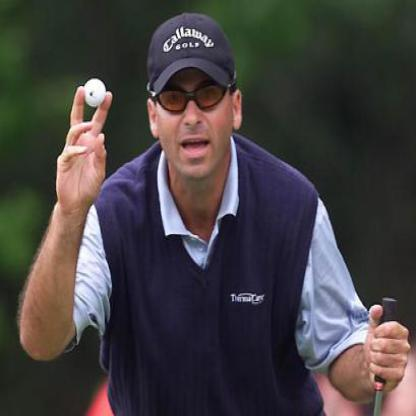face: (154, 14, 233, 184)
